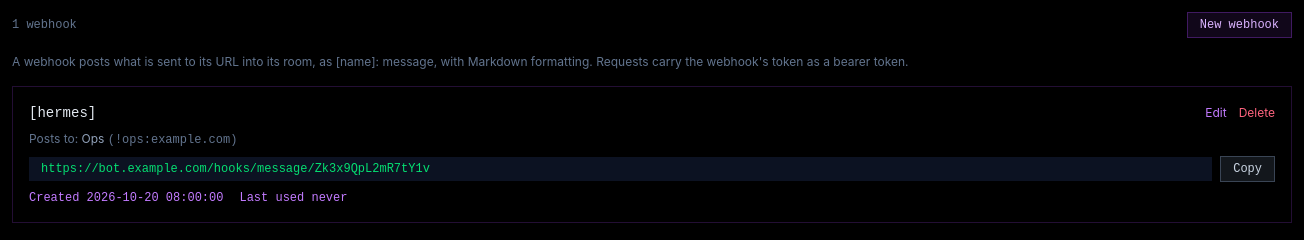
Scenario: WebhooksCard › deleting › should not delete when cancelled
The image size is (1304, 240).
Click the button "Delete". click: (1257, 113)
box: [1239,105,1275,121]
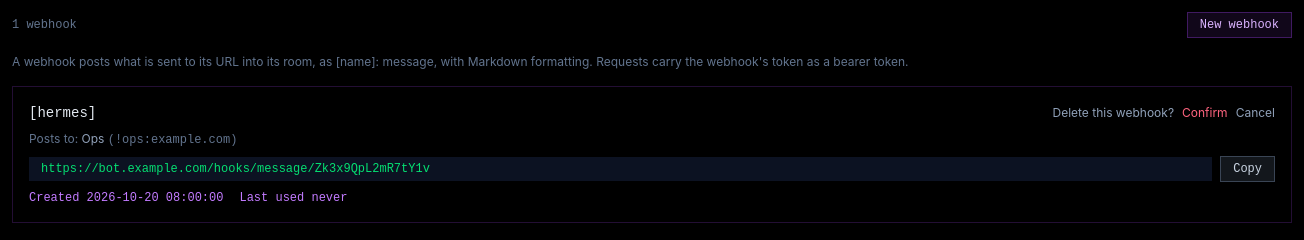
Click the button "Cancel". click: (1255, 113)
box: [1236,105,1275,121]
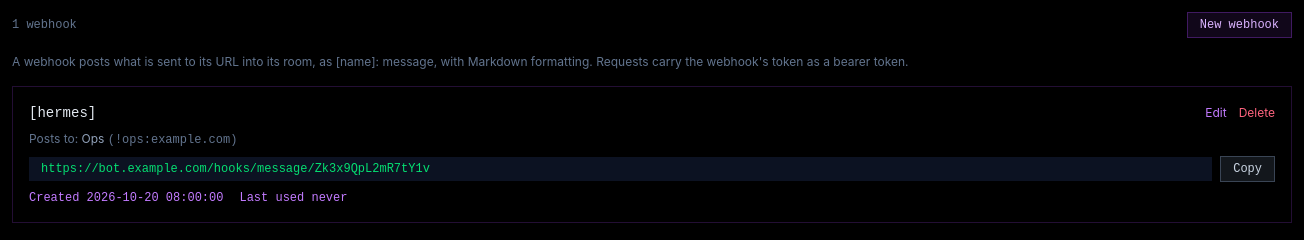
Expected: the text "Delete this webhook?" is gone
